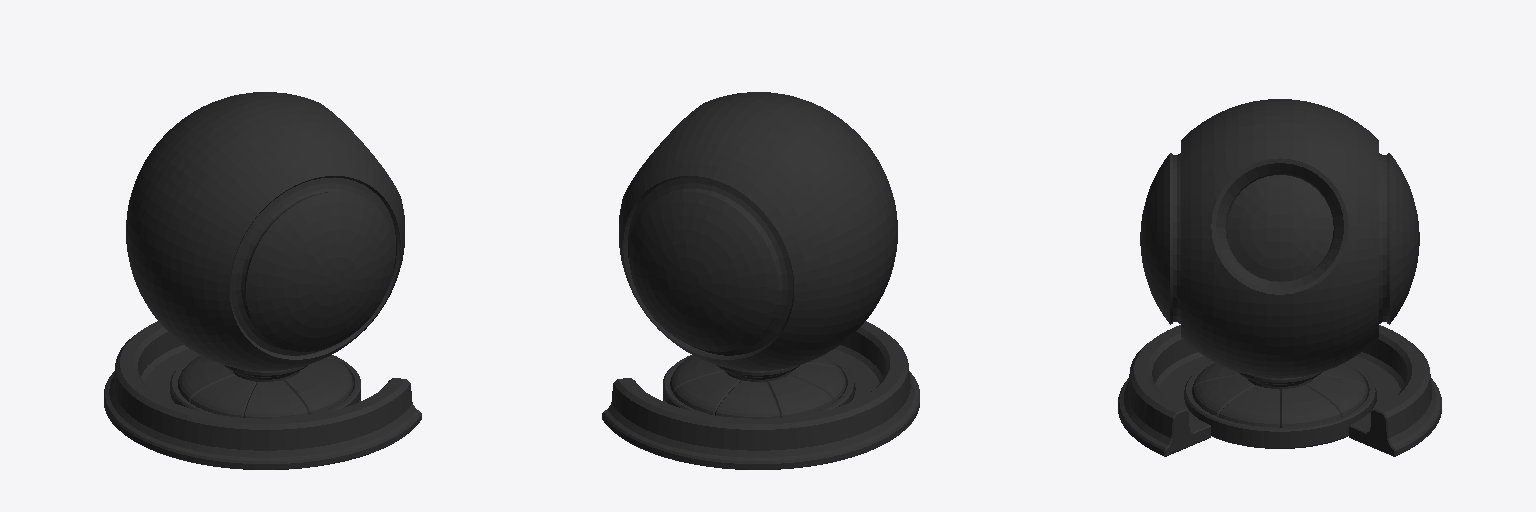
File: ShaderBall.obj
The picture shows the model from 3 angles: view 1: azimuth 30°, elevation 25°; view 2: azimuth 150°, elevation 25°; view 3: azimuth 270°, elevation 25°; orthographic projection.
Parts seen in each view (by area): view 1: node_id4_mesh_id5; view 2: node_id4_mesh_id5; view 3: node_id4_mesh_id5.
Boxes of the visible parts, x1,y1,x2,y2 form: node_id4_mesh_id5: [104, 92, 421, 469]; node_id4_mesh_id5: [602, 92, 919, 469]; node_id4_mesh_id5: [1118, 99, 1441, 456].
Bounding box in the file's own units: 0.9866 × 1.07 × 1.06.